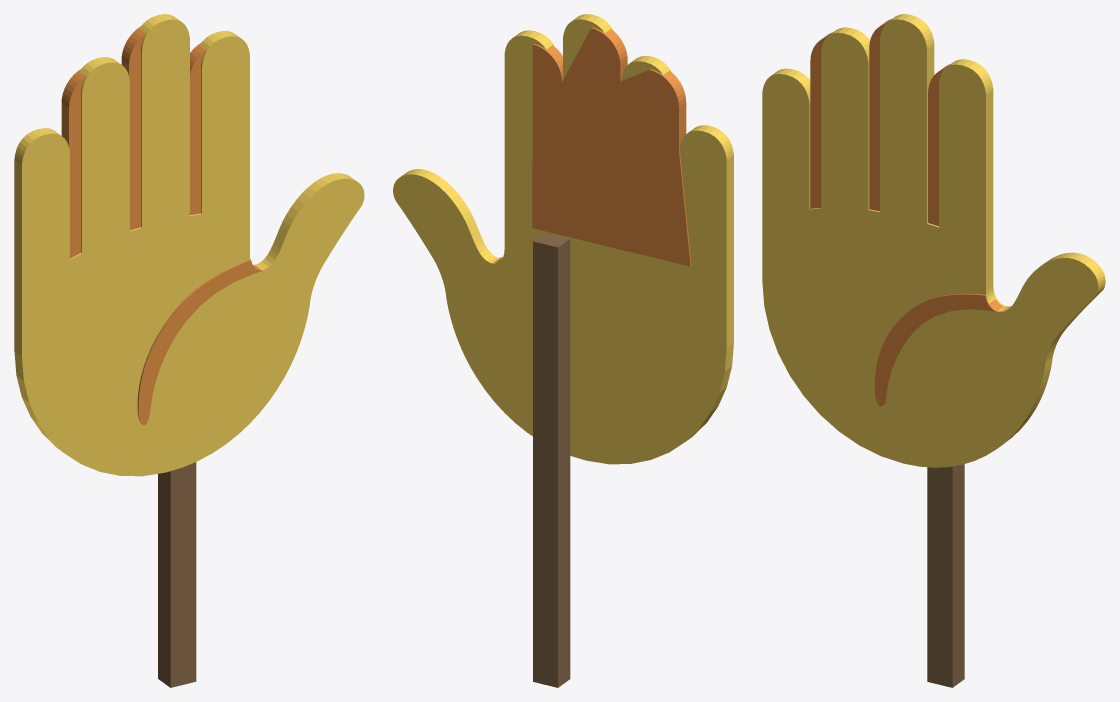
Rendered from main.glb.
The picture shows the model from 3 angles, left to right: view 1: azimuth 30°, elevation 25°; view 2: azimuth 150°, elevation 25°; view 3: azimuth 330°, elevation 25°; orthographic projection. The views are drawn at different scales.
Size of the model in its own units: 0.7928 by 1.5 by 0.093.
